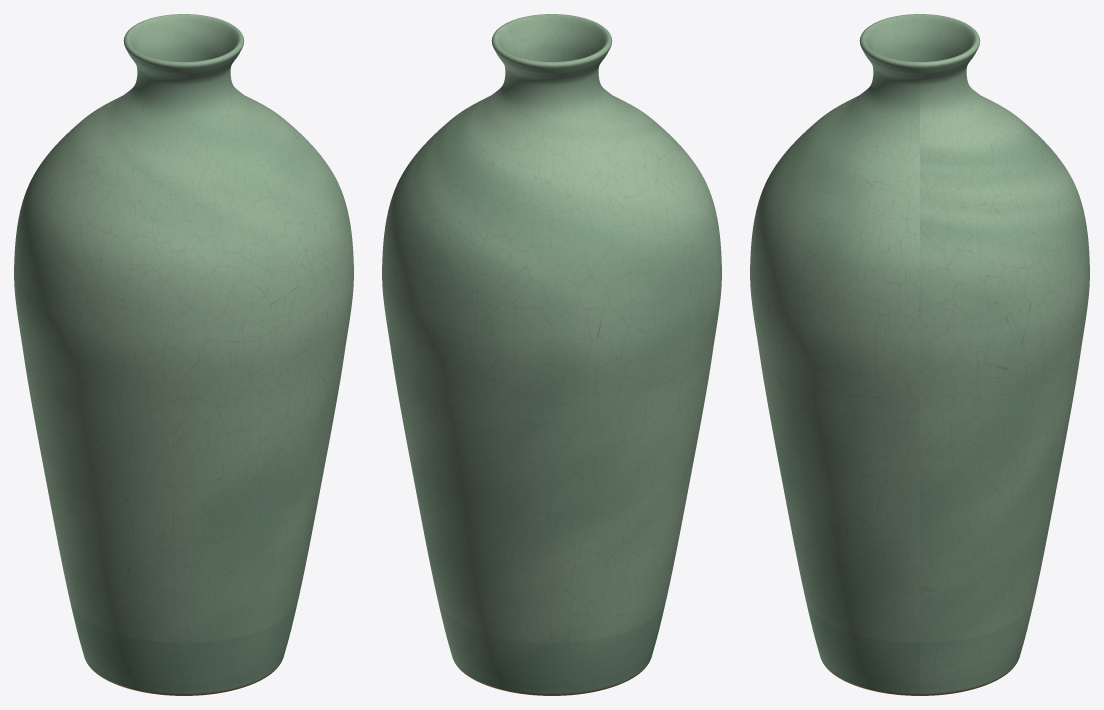
File: celadon-vase.glb
The picture shows the model from 3 angles, left to right: view 1: azimuth 30°, elevation 25°; view 2: azimuth 150°, elevation 25°; view 3: azimuth 270°, elevation 25°; orthographic projection.
Parts seen in each view (by area): view 1: vase; view 2: vase; view 3: vase.
Boxes of the visible parts, x1,y1,x2,y2 form: vase: (14, 14, 353, 695); vase: (382, 14, 721, 695); vase: (750, 14, 1089, 695).
Size of the model in its own units: 0.1517 by 0.3036 by 0.1517.
1 material, 1 textured.
